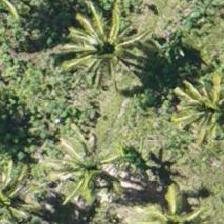coconut_tree: (35, 125, 125, 215), (64, 8, 154, 98), (165, 65, 223, 155)
